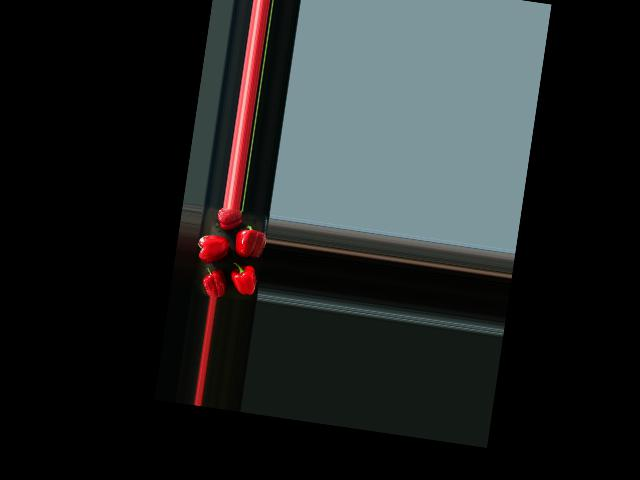bell_pepper: (211, 206, 244, 233)
